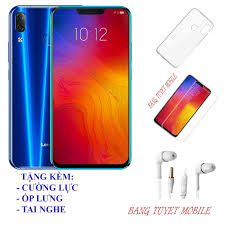lenovo: (48, 3, 132, 171)
